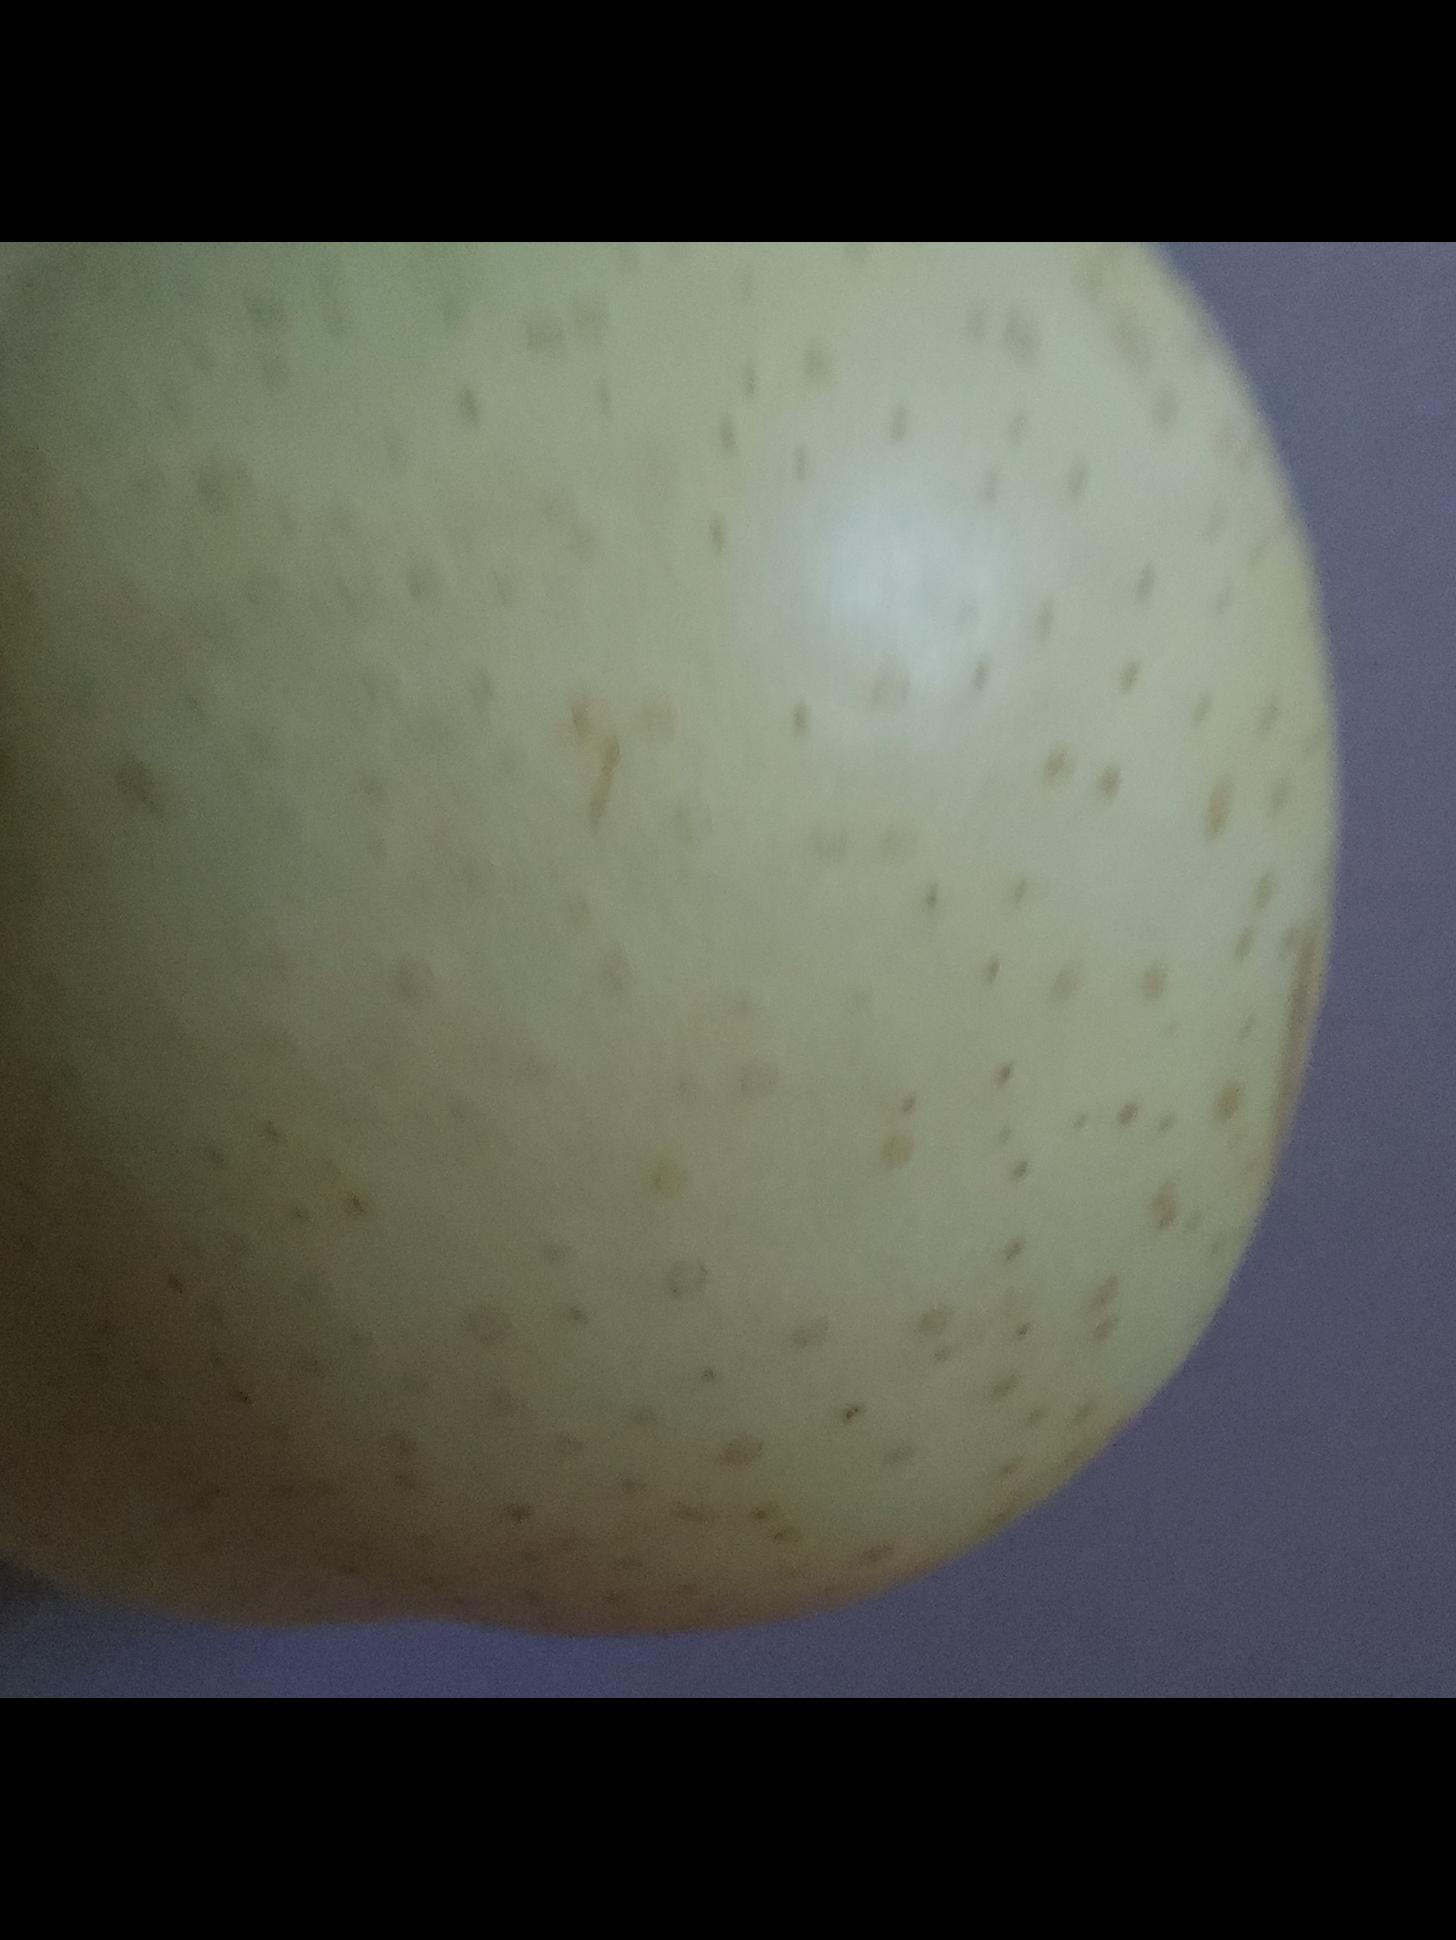Good Pear: (0, 242, 1360, 1659)
